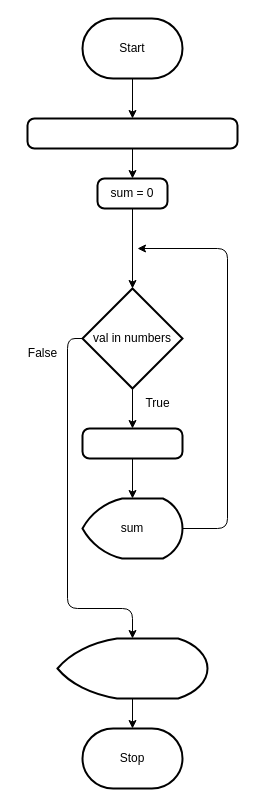
Some shapes in this 255 by 806 pixel diagram are drawn without their labels. Here are the shapes that lost their labels. From the top down, the centre of each, then its label:
the point at 132,133: numbers = [6, 5, 3, 8, 4, 2, 5, 4, 11]
the point at 132,443: sum = sum + val
the point at 132,668: print("The sum is", sum)
